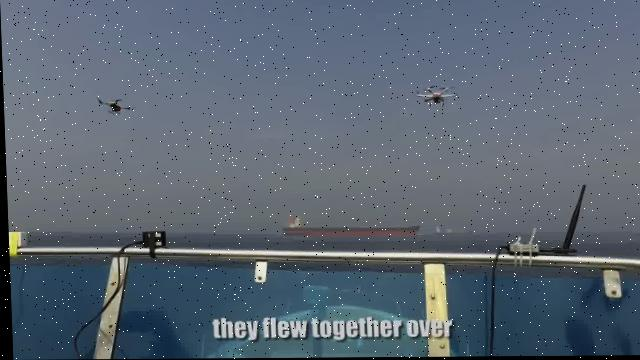drone: (416, 82, 456, 109), (93, 96, 129, 115)
